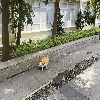fire: (40, 55, 49, 65)
